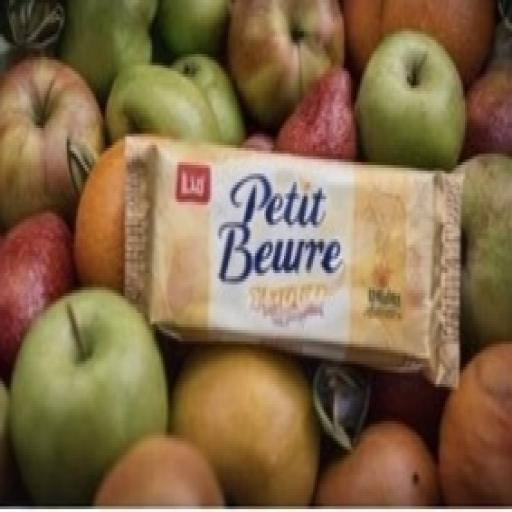petit_beurre: (85, 83, 487, 422)
